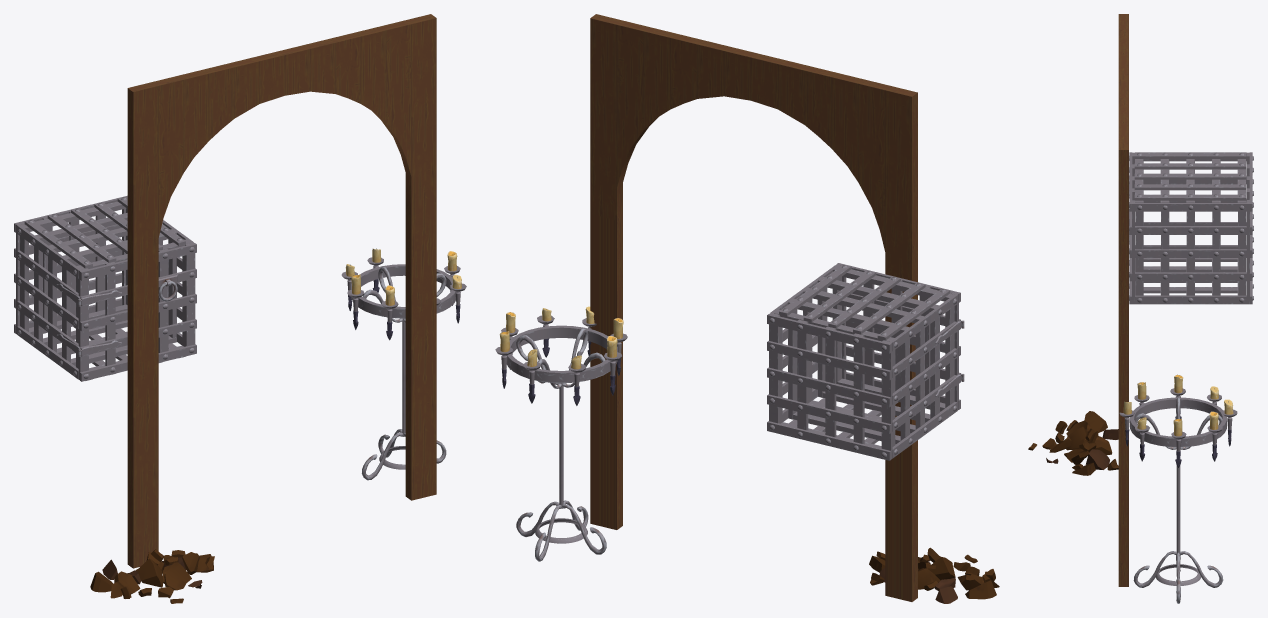
Rendered from bg_dungeon_cage_arch.glb.
3 renders of one model, left to right at view 1: azimuth 30°, elevation 25°; view 2: azimuth 150°, elevation 25°; view 3: azimuth 270°, elevation 25°, orthographic. The views are drawn at different scales.
Visible parts, largest first — view 1: Wall_Arch, Cage_Small, CandleStick_Stand, Vase_Rubble_Medium; view 2: Wall_Arch, Cage_Small, CandleStick_Stand, Vase_Rubble_Medium; view 3: Cage_Small, CandleStick_Stand, Wall_Arch, Vase_Rubble_Medium.
Boxes of the visible parts, x1=… form: Wall_Arch: x1=127, y1=14, x2=436, y2=568; Cage_Small: x1=14, y1=195, x2=196, y2=381; CandleStick_Stand: x1=341, y1=248, x2=466, y2=480; Vase_Rubble_Medium: x1=90, y1=549, x2=214, y2=603; Wall_Arch: x1=590, y1=14, x2=917, y2=601; Cage_Small: x1=767, y1=263, x2=964, y2=460; CandleStick_Stand: x1=495, y1=306, x2=627, y2=561; Vase_Rubble_Medium: x1=869, y1=547, x2=999, y2=603; Cage_Small: x1=1129, y1=152, x2=1253, y2=304; CandleStick_Stand: x1=1119, y1=374, x2=1237, y2=603; Wall_Arch: x1=1118, y1=14, x2=1128, y2=586; Vase_Rubble_Medium: x1=1028, y1=411, x2=1118, y2=475.
Size of the model in its own units: 3.57 by 3.91 by 1.83.
5 materials, 5 textured.
